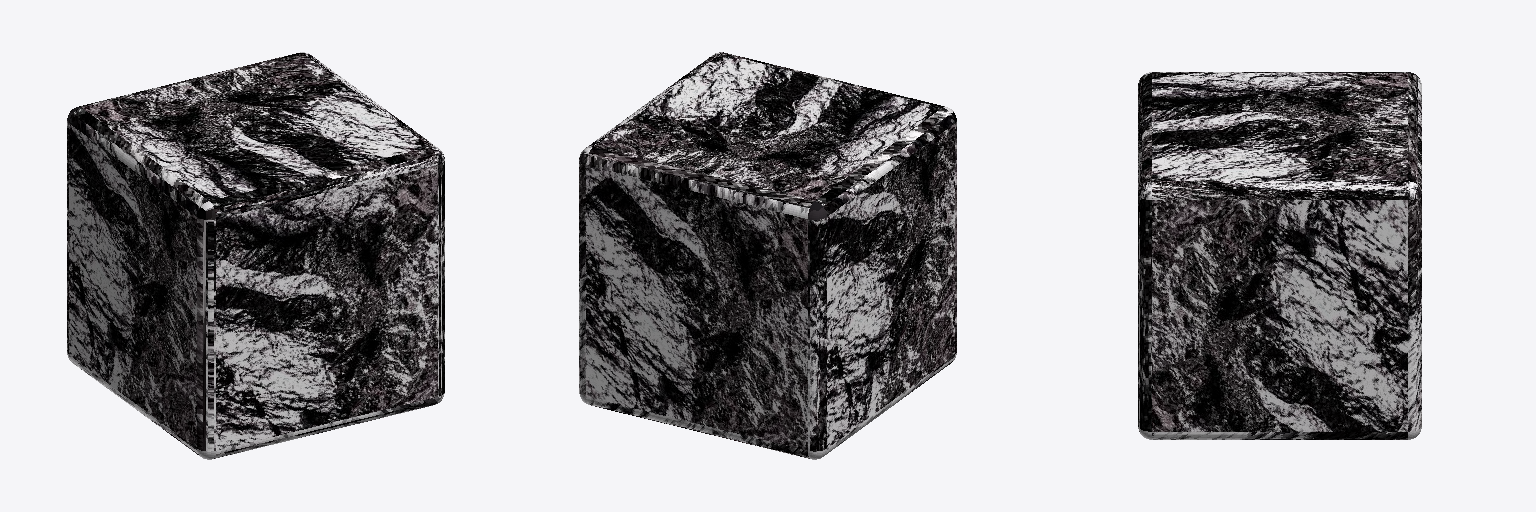
3 views of the same model, side by side, from view 1: azimuth 30°, elevation 25°; view 2: azimuth 150°, elevation 25°; view 3: azimuth 270°, elevation 25° (orthographic).
Visible parts, largest first — view 1: Cube; view 2: Cube; view 3: Cube.
Part boxes in pixels (x1,y1,x2,y2): Cube: (67, 52, 444, 459); Cube: (579, 52, 956, 459); Cube: (1138, 72, 1421, 439).
Bounding box in the file's own units: 2 × 2 × 2.
1 materials, 1 textured.